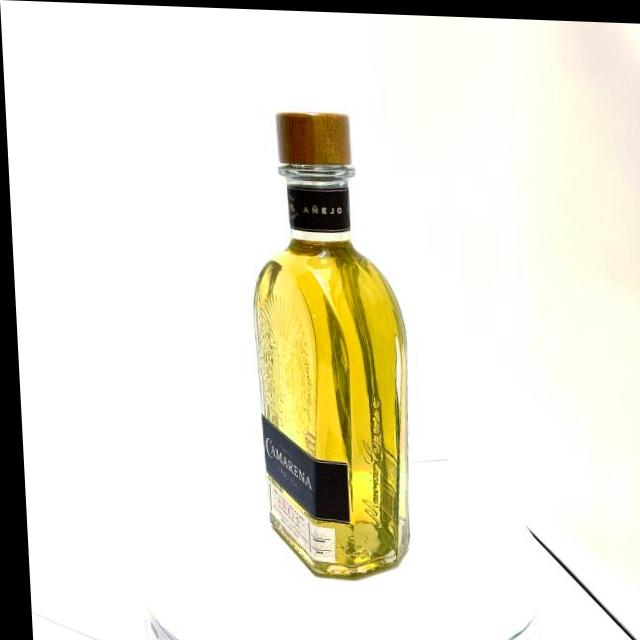CAMARENA-ANEJO-TEQUILA-750ML: (214, 101, 427, 580)
